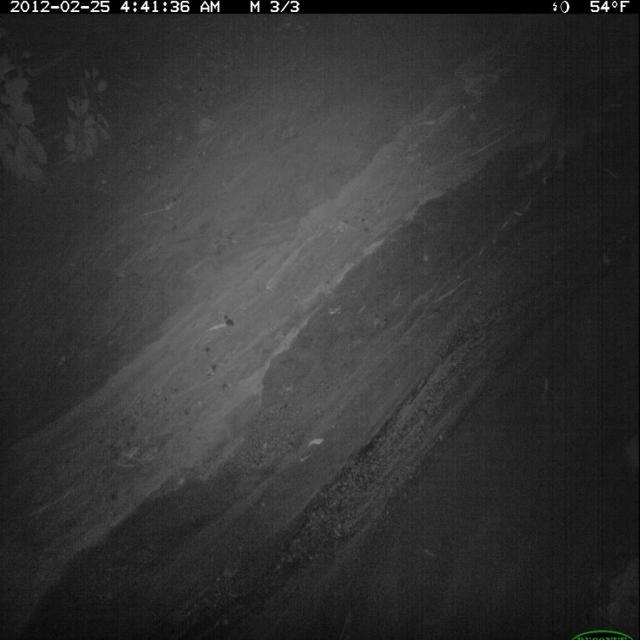raccoon: (518, 80, 621, 184)
